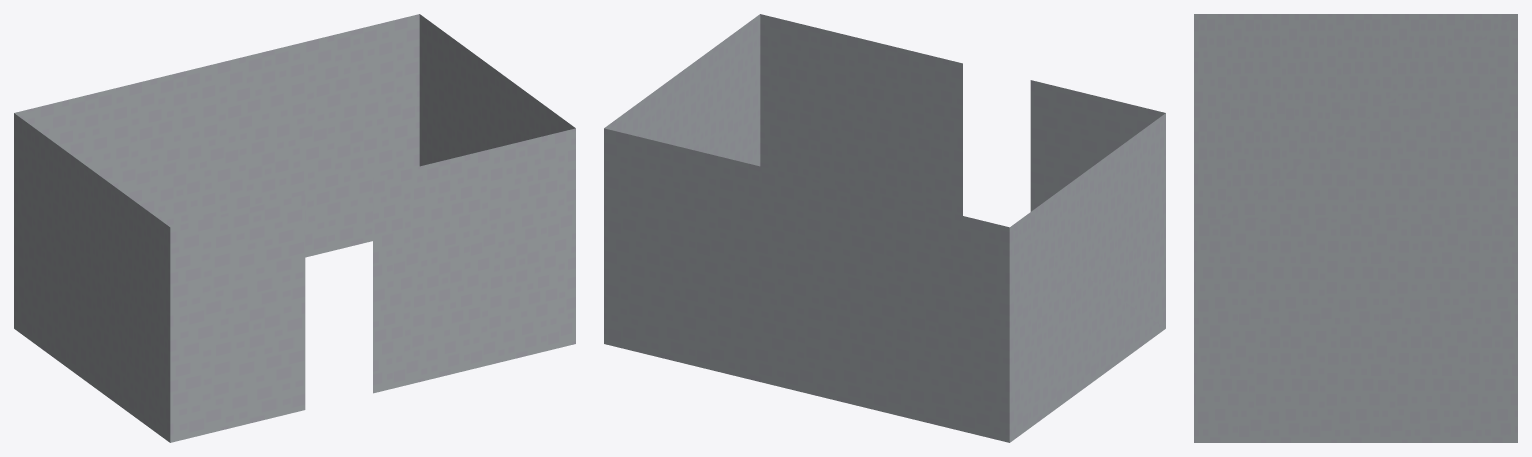
Rendered from building_s499-500.glb.
3 renders of one model, left to right at view 1: azimuth 30°, elevation 25°; view 2: azimuth 150°, elevation 25°; view 3: azimuth 270°, elevation 25°, orthographic. The views are drawn at different scales.
Parts seen in each view (by area): view 1: building_s499-500; view 2: building_s499-500; view 3: building_s499-500.
Part boxes in pixels (left/top/right/bottom): building_s499-500: left=14, top=14, right=575, bottom=442; building_s499-500: left=604, top=14, right=1165, bottom=442; building_s499-500: left=1194, top=14, right=1517, bottom=442.
Size of what is drawn, in the model's own units: 6 by 3.05 by 4.
1 material, 1 textured.
